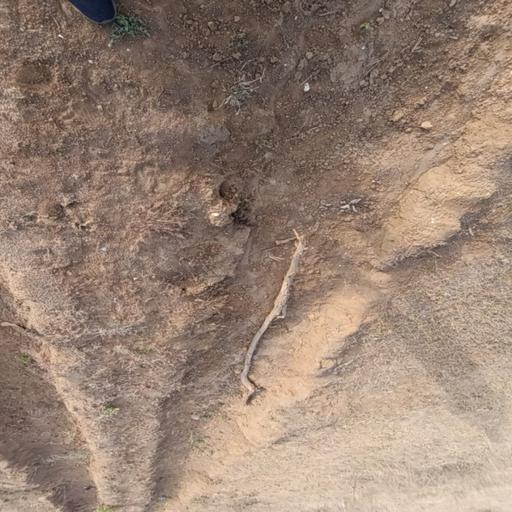vehicle_track: (153, 0, 512, 510), (0, 276, 96, 512)
